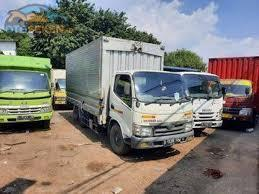truck: (105, 68, 198, 157), (1, 63, 61, 131), (178, 70, 229, 135), (220, 77, 259, 131)
